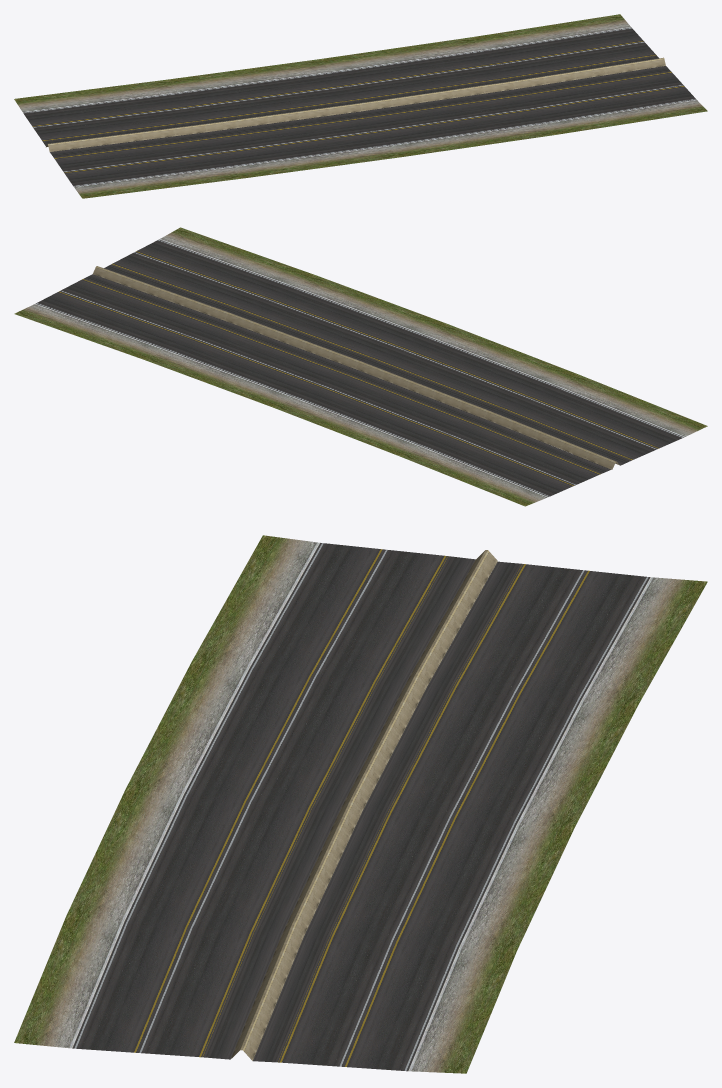
File: vegasnroad23b.obj
The picture shows the model from 3 angles, top to bottom: view 1: azimuth 30°, elevation 25°; view 2: azimuth 150°, elevation 25°; view 3: azimuth 270°, elevation 25°; orthographic projection. The views are drawn at different scales.
Parts seen in each view (by area): view 1: vegasNroad23b; view 2: vegasNroad23b; view 3: vegasNroad23b.
Boxes of the visible parts, x1,y1,x2,y2 form: vegasNroad23b: (14,14,707,198); vegasNroad23b: (14,227,707,506); vegasNroad23b: (14,535,707,1073).
Size of the model in its own units: 111 by 0.9971 by 60.56.
5 materials, 5 textured.
